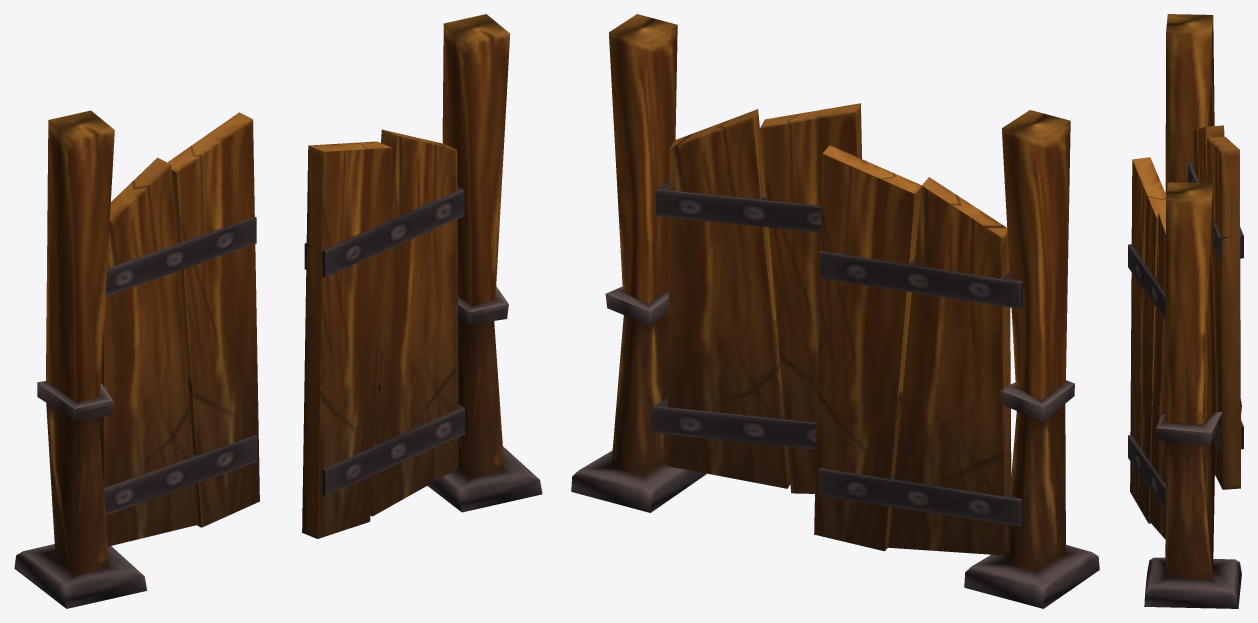
The model's file is gate_1.fbx.
3 renders of one model, left to right at view 1: azimuth 30°, elevation 25°; view 2: azimuth 150°, elevation 25°; view 3: azimuth 270°, elevation 25°, orthographic. The views are drawn at different scales.
Visible parts, largest first — view 1: gate_1; view 2: gate_1; view 3: gate_1.
Boxes of the visible parts, x1,y1,x2,y2 form: gate_1: (14,14,542,608); gate_1: (571,14,1099,608); gate_1: (1128,14,1243,608).
Bounding box in the file's own units: 2.53 × 2.3 × 0.6072.
